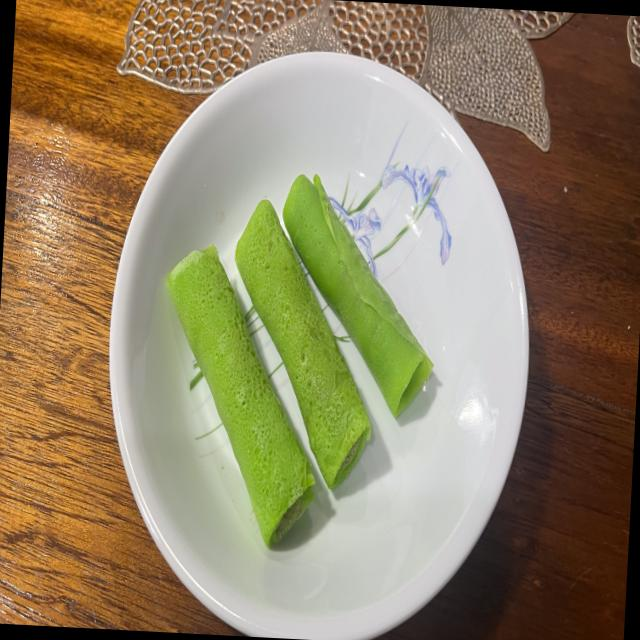Kuih-Ketayap: (167, 245, 314, 544), (235, 199, 371, 488), (283, 174, 433, 417)
